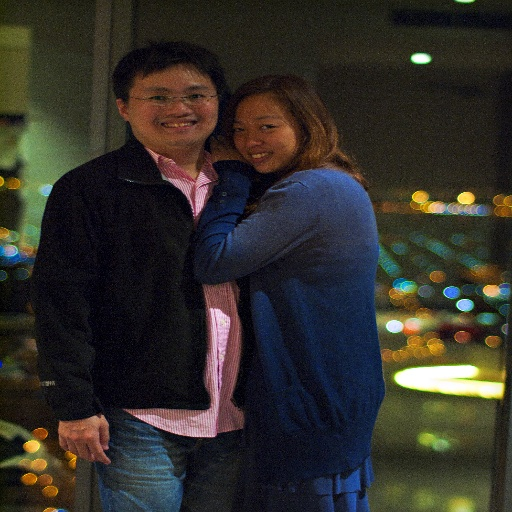hand: (52, 411, 110, 468), (204, 132, 247, 164)
